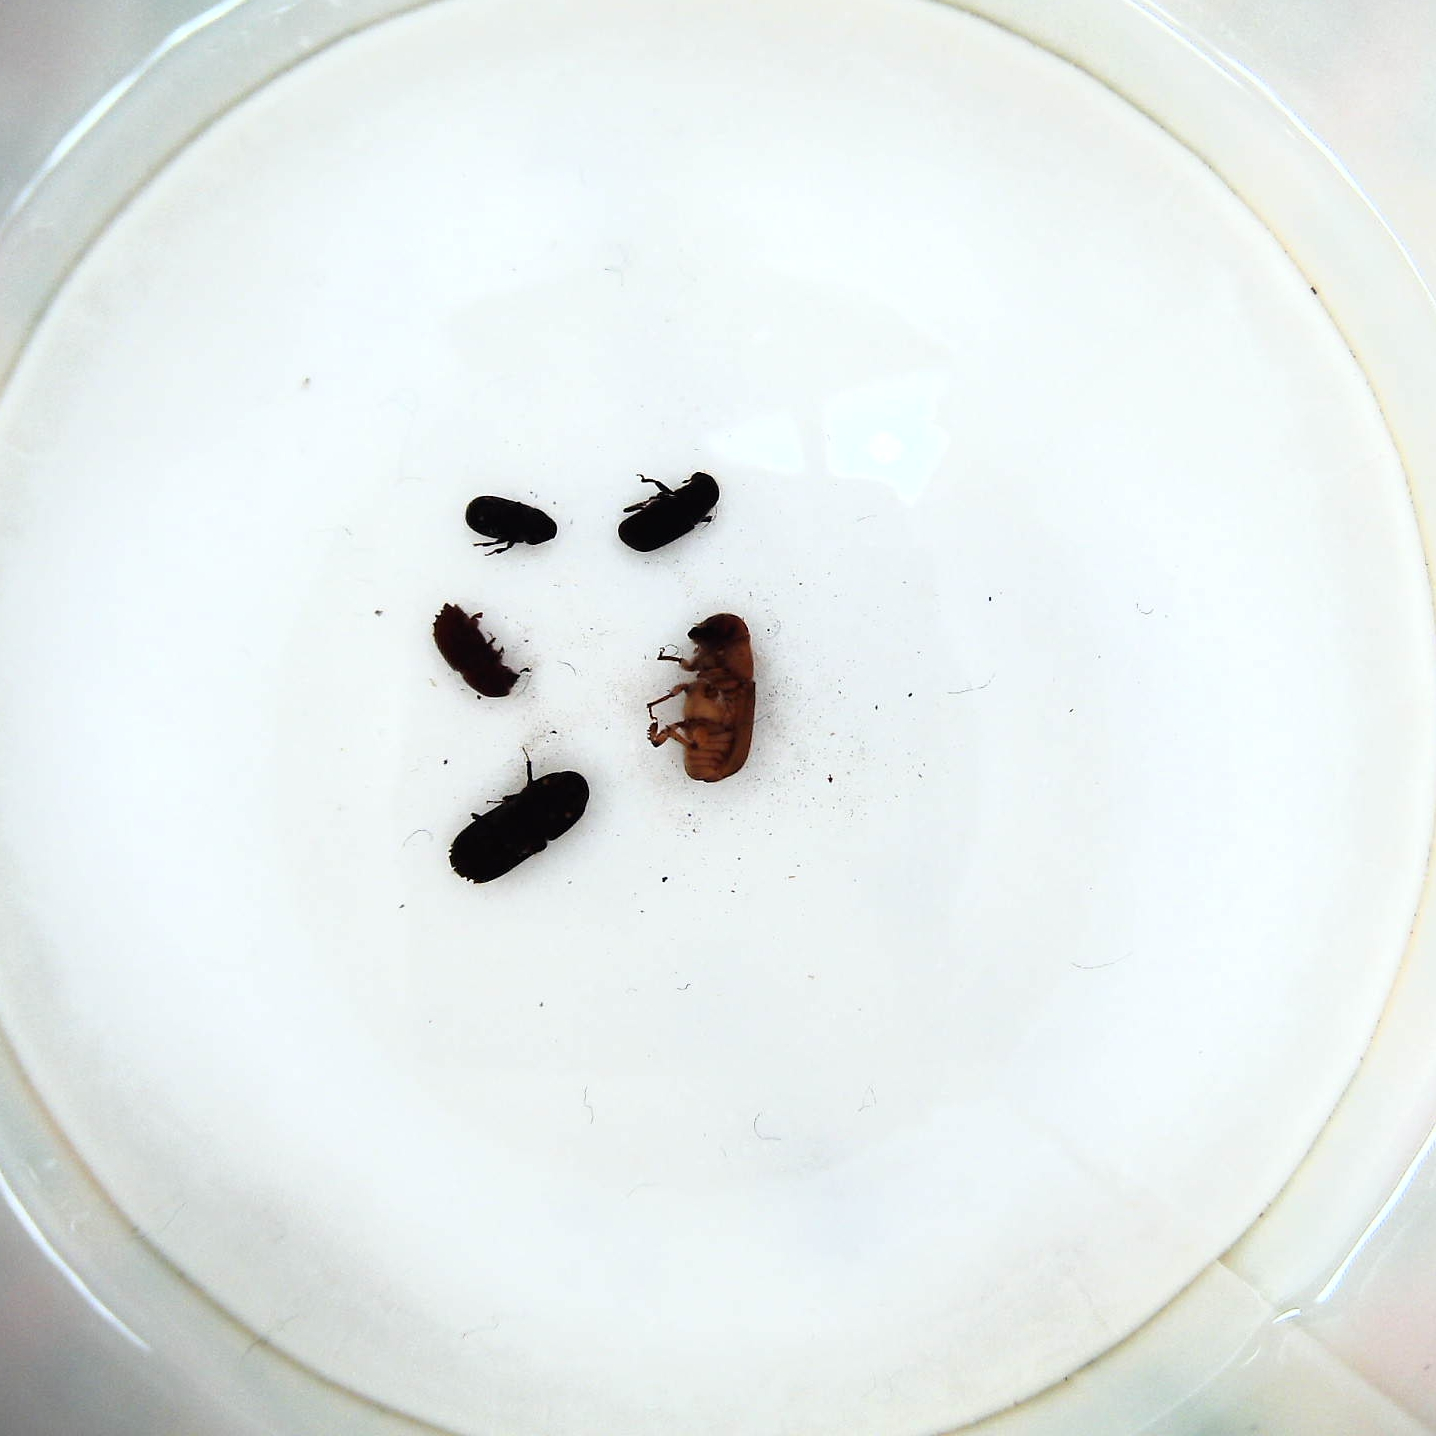Boerner: (448, 761, 592, 882)
Leconte: (646, 614, 763, 785)
armandi: (614, 468, 725, 556)
coleoptera: (460, 491, 560, 556)
linnaeus: (426, 597, 521, 709)
